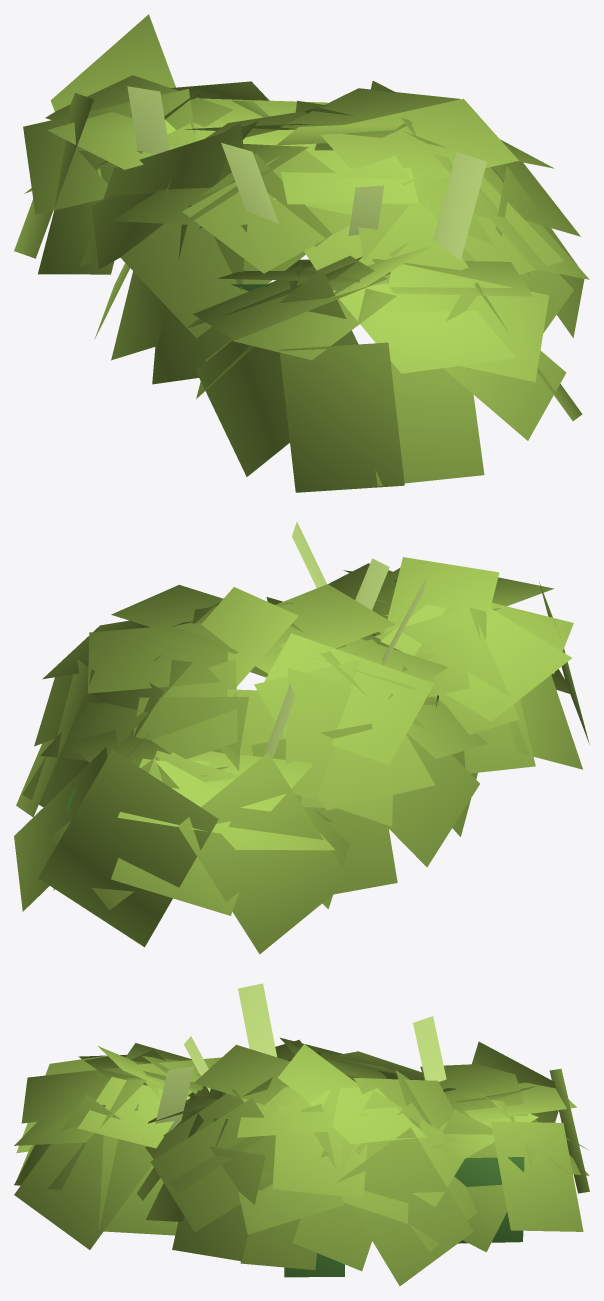
Rendered from plant_groundcover_0_lod1.glb.
3 views of the same model, one above another, from view 1: azimuth 30°, elevation 25°; view 2: azimuth 150°, elevation 25°; view 3: azimuth 270°, elevation 25° (orthographic). The views are drawn at different scales.
Parts seen in each view (by area): view 1: plant_groundcover_0; view 2: plant_groundcover_0; view 3: plant_groundcover_0.
Boxes of the visible parts, box(x1,y1,x2,y2) form: plant_groundcover_0: box(14, 14, 589, 492); plant_groundcover_0: box(14, 522, 589, 954); plant_groundcover_0: box(14, 983, 589, 1286).
Size of the model in its own units: 1.15 by 0.6346 by 1.84.
